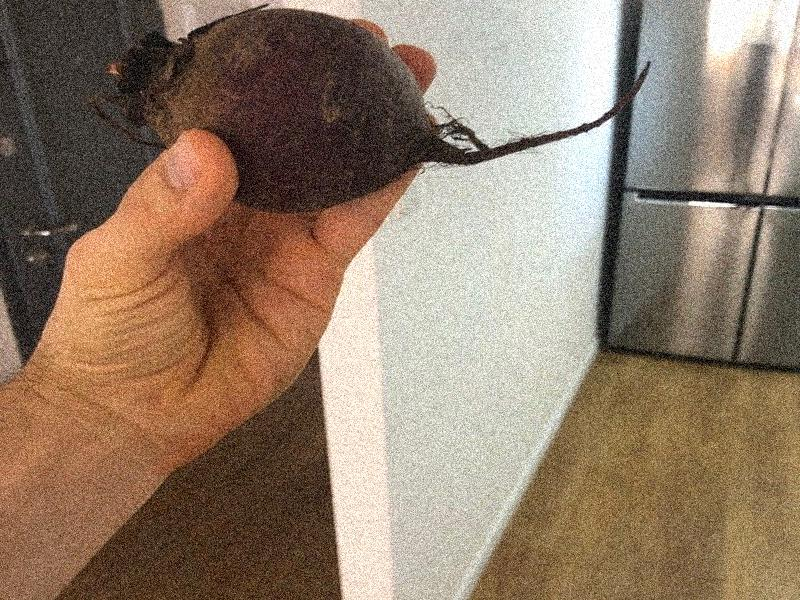Beet: (89, 4, 649, 208)
